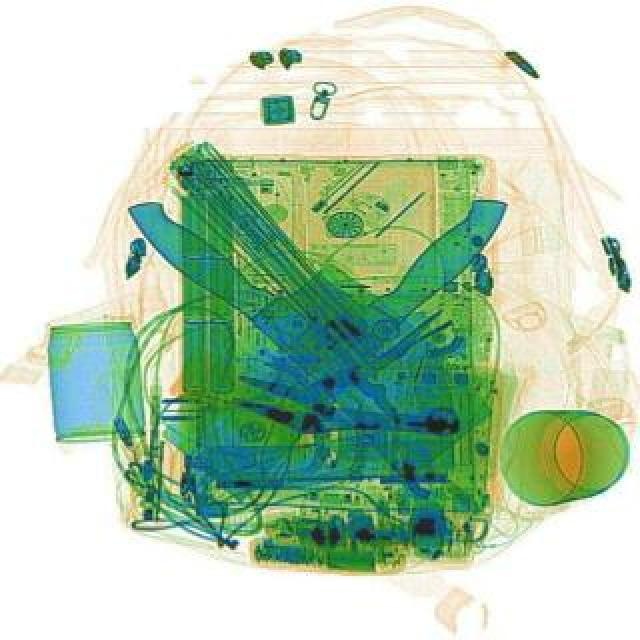knife: (112, 136, 502, 492), (270, 184, 514, 432)
